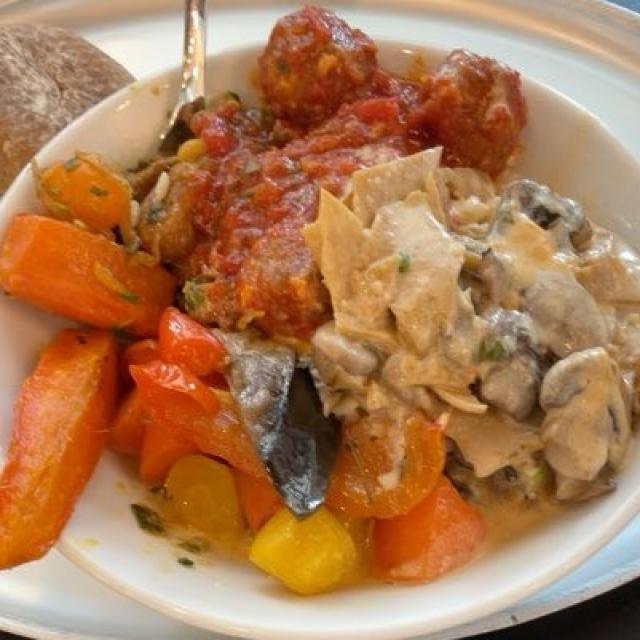carrots: (1, 159, 481, 597)
falafel-balls: (138, 12, 526, 310)
mushroom-stew: (402, 169, 639, 501)
sauce: (442, 211, 623, 509)
tomato-sauce: (199, 23, 532, 324)
